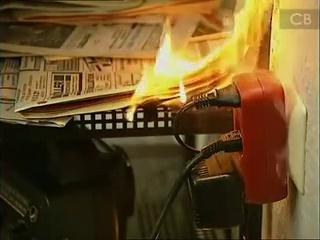Fire: (114, 1, 266, 120)
